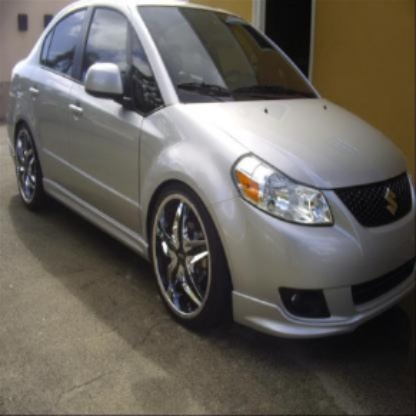Vehicle: (7, 1, 415, 345)
